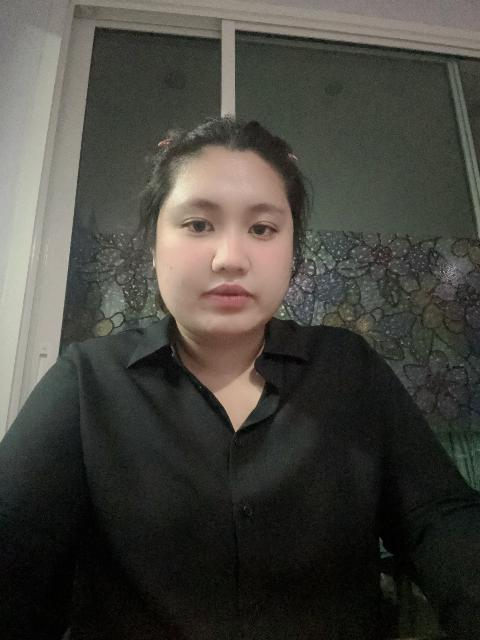fokus: (153, 132, 302, 339)
